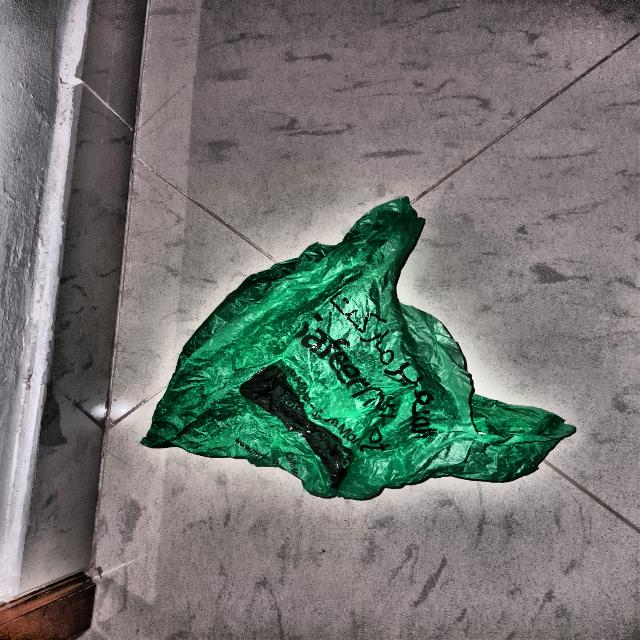plastic bag: (140, 194, 580, 503)
